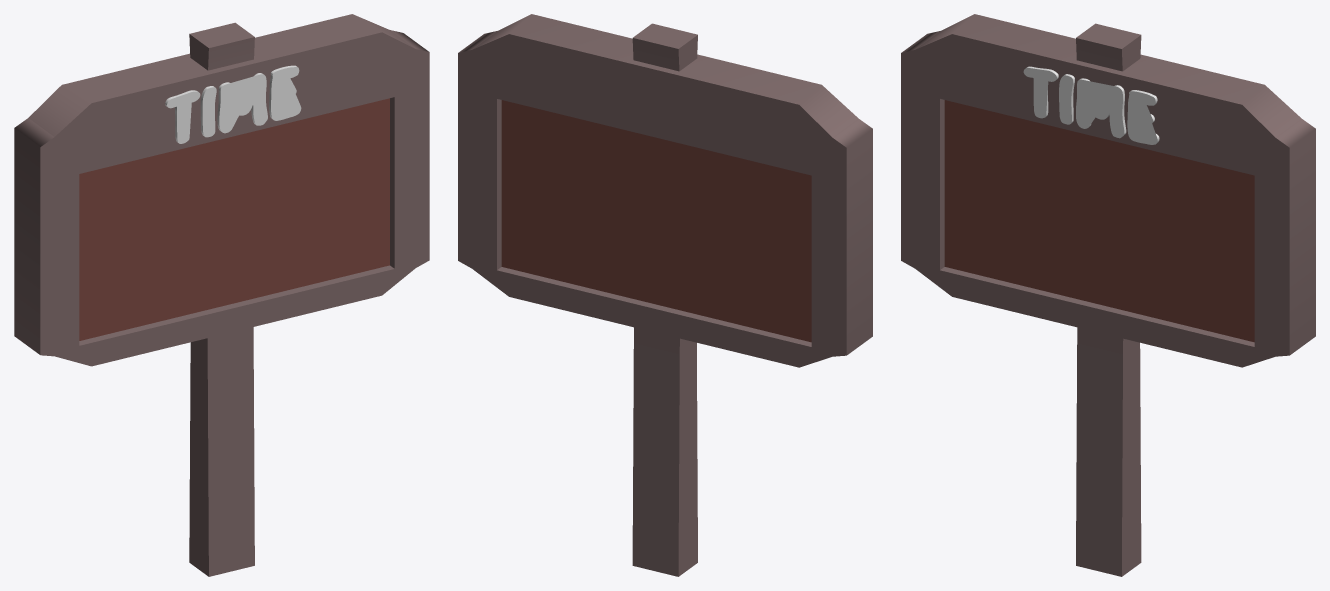
File: time.fbx
3 renders of one model, left to right at view 1: azimuth 30°, elevation 25°; view 2: azimuth 150°, elevation 25°; view 3: azimuth 330°, elevation 25°, orthographic.
Visible parts, largest first — view 1: sign3; view 2: sign3; view 3: sign3.
Boxes of the visible parts, <box> form: sign3: <box>14,14,429,576</box>; sign3: <box>458,14,872,576</box>; sign3: <box>901,14,1315,576</box>.
Bounding box in the file's own units: 4.78 × 6.21 × 0.5985.
